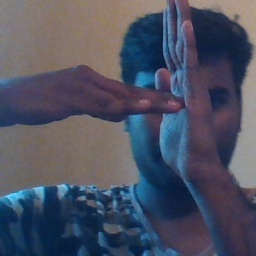Z: (96, 1, 214, 177)
